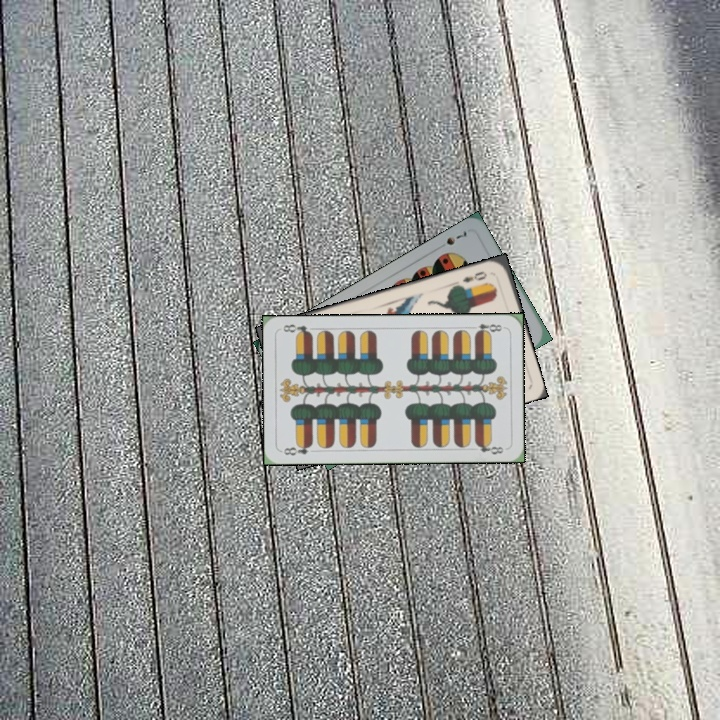E8: (466, 320, 505, 337), (279, 440, 315, 458)
EO: (459, 267, 489, 285)
S7: (442, 226, 469, 248)
